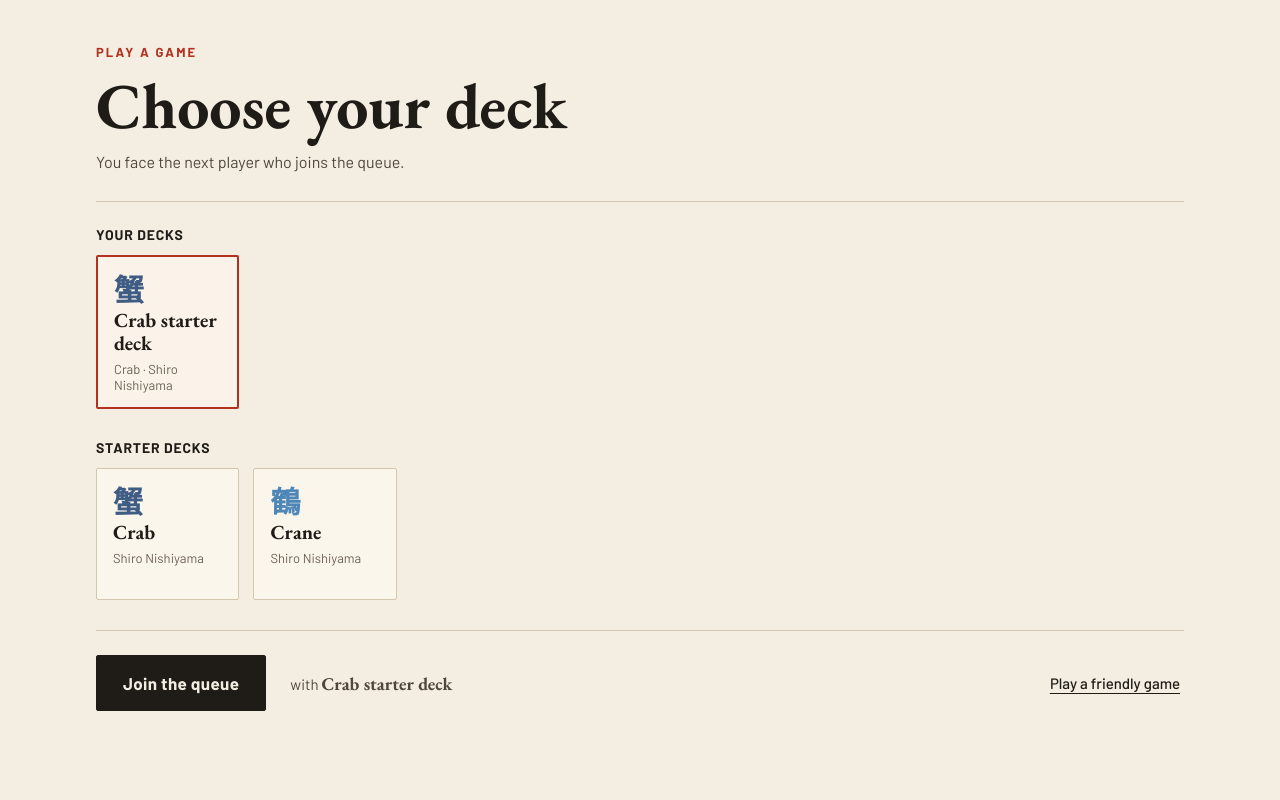
QueueView › joins the queue with the deck chosen, then waits in reverse
Click the button with class "deck" showing "鶴 Crane Shiro Nishiyama" at (325, 534), box [253,468,397,600]
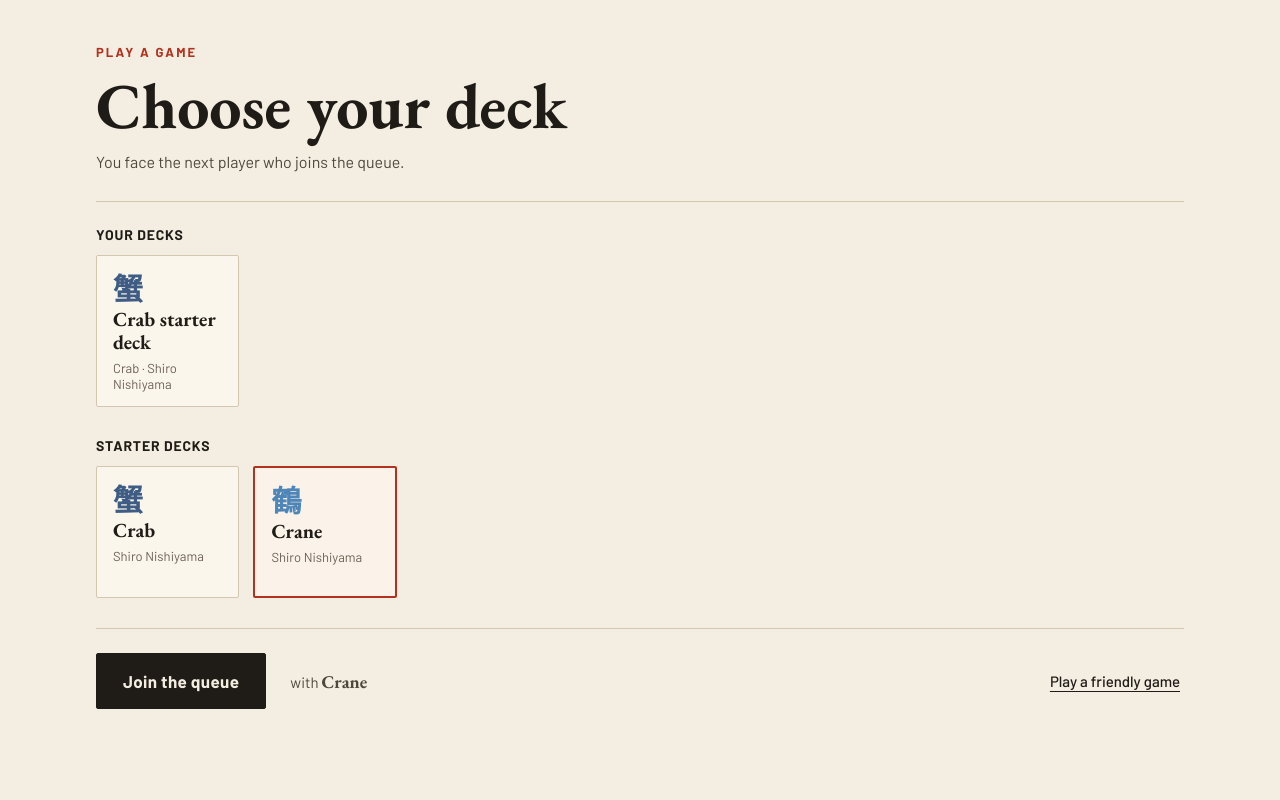
Click the button "Join the queue" at (181, 681), box [96,653,266,709]
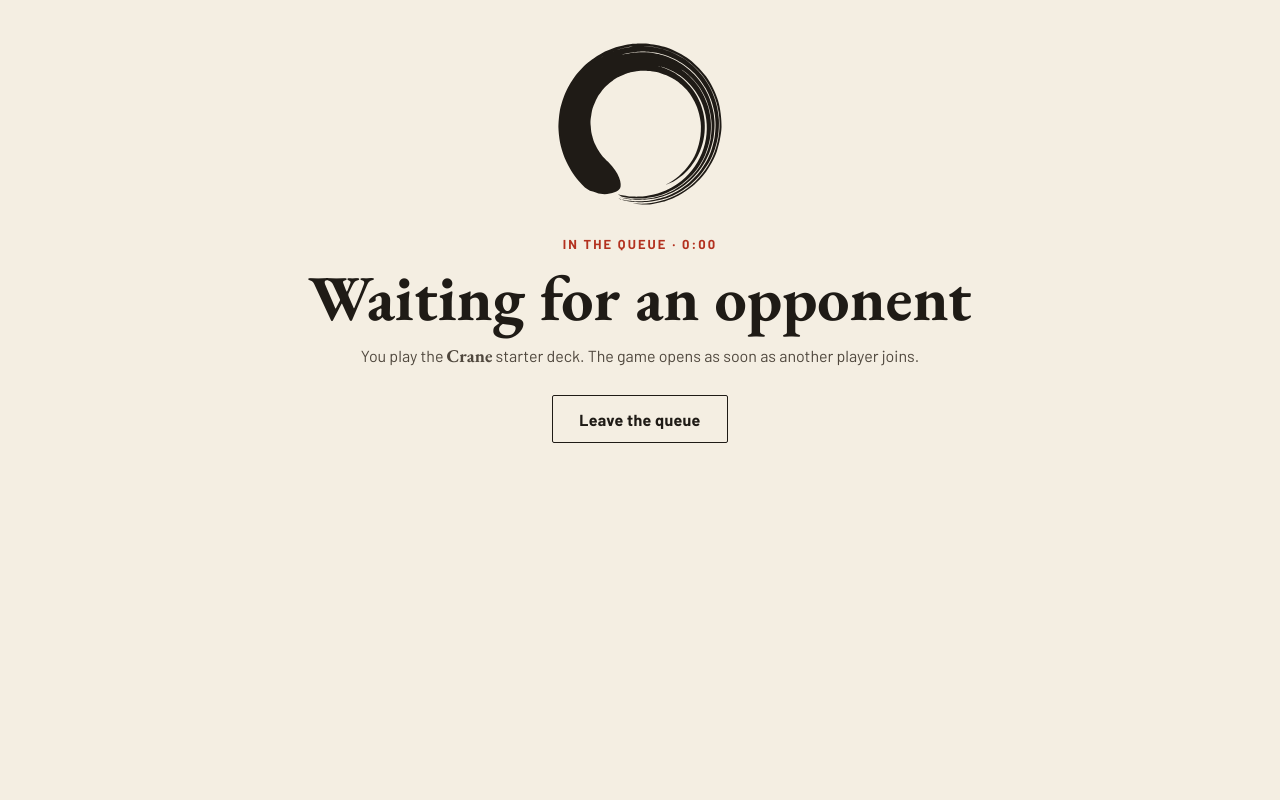
Check: the element with class "waiting" shows "Waiting for an opponent", box [308,256,972,339]
Check: the element with class "waiting" shows "Crane starter deck", box [308,40,972,443]
